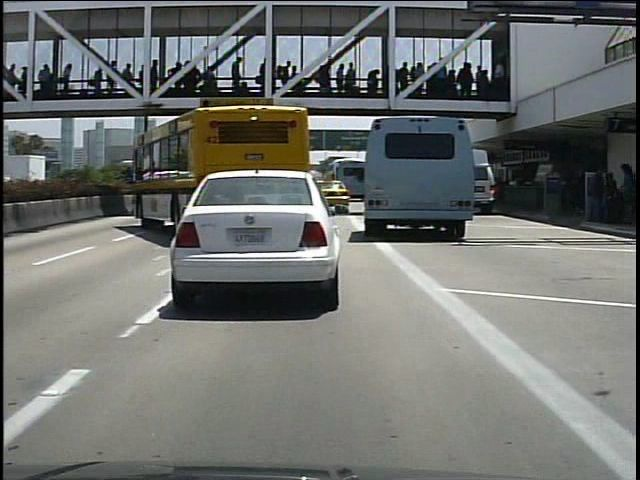person: (589, 162, 621, 223), (612, 160, 638, 226)
